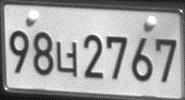2: (83, 34, 104, 79)
6: (130, 36, 152, 81)
7: (104, 34, 129, 80), (154, 37, 177, 84)
8: (32, 31, 54, 75)
9: (9, 30, 29, 73)
너: (55, 39, 78, 78)
